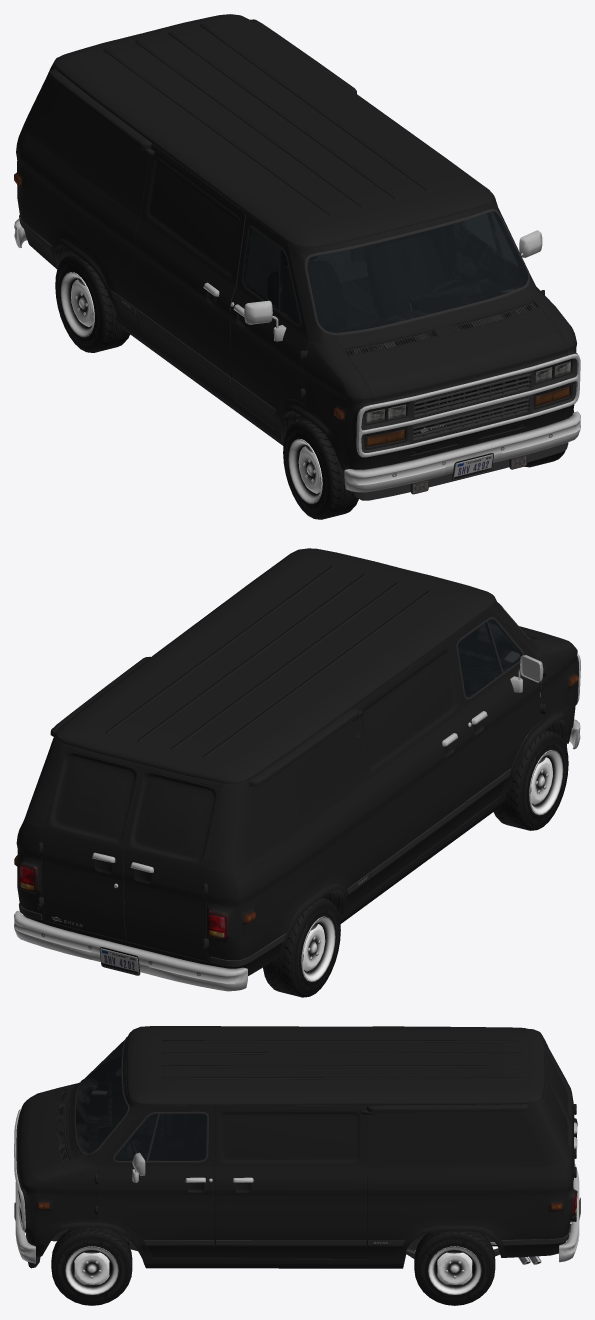
The model's file is traffic_van.glb.
The picture shows the model from 3 angles, top to bottom: view 1: azimuth 30°, elevation 25°; view 2: azimuth 150°, elevation 25°; view 3: azimuth 270°, elevation 25°; orthographic projection. The views are drawn at different scales.
Visible parts, largest first — view 1: Shvan92_Body_Shvan92_bodymat_0, Shvan92_Bottom_UCB_BOTTOM_0, Shvan92_Interior_UCB_Interiors_1_0, Shvan92_Windshield_UCB_Lights_and_Glass_Transperent_0, Shvan92_Hood_Shvan92_bodymat_0, Shvan92_Bumper_front_UCB_BOTTOM_0, Shvan92_WheelStock_FR_RB1c_Tire_1k_0, Shvan92_WheelStock_RL_RB1c_Tire_1k_0.001, Shvan92_Glass_Passanger_UCB_Lights_and_Glass_Transperent_0, Shvan92_Headlights_Glass_UCB_Lights_and_Glass_Transperent_0, Shvan92_Body_glass_UCB_Lights_and_Glass_Transperent_0, Shvan92_Blinkers_UCB_Lights_and_Glass_0 (+2 smaller); view 2: Shvan92_Body_Shvan92_bodymat_0, Shvan92_Bumper_rear_UCB_BOTTOM_0, Shvan92_Bottom_UCB_BOTTOM_0, Shvan92_WheelStock_RL_RB1c_Tire_1k_0.001, Shvan92_WheelStock_FR_RB1c_Tire_1k_0, Shvan92_Interior_UCB_Interiors_1_0, Shvan92_Glass_Passanger_UCB_Lights_and_Glass_Transperent_0, Shvan92_Body_glass_UCB_Lights_and_Glass_Transperent_0, Shvan92_Numberplate_rear_Numberplates_Misk_U_0; view 3: Shvan92_Body_Shvan92_bodymat_0, Shvan92_Interior_UCB_Interiors_1_0, Shvan92_Bottom_UCB_BOTTOM_0, Shvan92_WheelStock_FL_RB1c_Tire_1k_0, Shvan92_WheelStock_RL_RB1c_Tire_1k_0, Shvan92_Windshield_UCB_Lights_and_Glass_Transperent_0, Shvan92_Hood_Shvan92_bodymat_0, Shvan92_Glass_Driver_UCB_Lights_and_Glass_Transperent_0, Shvan92_Body_glass_UCB_Lights_and_Glass_Transperent_0, Shvan92_Bumper_rear_UCB_BOTTOM_0, Shvan92_Bumper_front_UCB_BOTTOM_0.
Boxes of the visible parts, x1=… form: Shvan92_Body_Shvan92_bodymat_0: x1=16, y1=14, x2=576, y2=472; Shvan92_Bottom_UCB_BOTTOM_0: x1=14, y1=172, x2=580, y2=500; Shvan92_Interior_UCB_Interiors_1_0: x1=229, y1=212, x2=527, y2=404; Shvan92_Windshield_UCB_Lights_and_Glass_Transperent_0: x1=307, y1=211, x2=528, y2=332; Shvan92_Hood_Shvan92_bodymat_0: x1=348, y1=308, x2=567, y2=404; Shvan92_Bumper_front_UCB_BOTTOM_0: x1=344, y1=411, x2=580, y2=492; Shvan92_WheelStock_FR_RB1c_Tire_1k_0: x1=283, y1=419, x2=358, y2=519; Shvan92_WheelStock_RL_RB1c_Tire_1k_0.001: x1=55, y1=253, x2=129, y2=352; Shvan92_Glass_Passanger_UCB_Lights_and_Glass_Transperent_0: x1=243, y1=228, x2=279, y2=310; Shvan92_Headlights_Glass_UCB_Lights_and_Glass_Transperent_0: x1=366, y1=361, x2=570, y2=446; Shvan92_Body_glass_UCB_Lights_and_Glass_Transperent_0: x1=280, y1=212, x2=517, y2=324; Shvan92_Blinkers_UCB_Lights_and_Glass_0: x1=366, y1=387, x2=569, y2=446; Shvan92_Body_Shvan92_bodymat_0: x1=16, y1=548, x2=578, y2=975; Shvan92_Bumper_rear_UCB_BOTTOM_0: x1=14, y1=911, x2=247, y2=991; Shvan92_Bottom_UCB_BOTTOM_0: x1=14, y1=603, x2=580, y2=966; Shvan92_WheelStock_RL_RB1c_Tire_1k_0.001: x1=263, y1=898, x2=340, y2=997; Shvan92_WheelStock_FR_RB1c_Tire_1k_0: x1=493, y1=730, x2=568, y2=830; Shvan92_Interior_UCB_Interiors_1_0: x1=124, y1=620, x2=531, y2=920; Shvan92_Glass_Passanger_UCB_Lights_and_Glass_Transperent_0: x1=458, y1=622, x2=501, y2=697; Shvan92_Body_glass_UCB_Lights_and_Glass_Transperent_0: x1=488, y1=619, x2=522, y2=671; Shvan92_Numberplate_rear_Numberplates_Misk_U_0: x1=100, y1=948, x2=139, y2=975; Shvan92_Body_Shvan92_bodymat_0: x1=20, y1=1026, x2=576, y2=1268; Shvan92_Interior_UCB_Interiors_1_0: x1=76, y1=1043, x2=206, y2=1160; Shvan92_Bottom_UCB_BOTTOM_0: x1=14, y1=1037, x2=577, y2=1268; Shvan92_WheelStock_FL_RB1c_Tire_1k_0: x1=51, y1=1227, x2=132, y2=1305; Shvan92_WheelStock_RL_RB1c_Tire_1k_0: x1=414, y1=1231, x2=495, y2=1305; Shvan92_Windshield_UCB_Lights_and_Glass_Transperent_0: x1=76, y1=1040, x2=127, y2=1153; Shvan92_Hood_Shvan92_bodymat_0: x1=16, y1=1089, x2=61, y2=1186; Shvan92_Glass_Driver_UCB_Lights_and_Glass_Transperent_0: x1=148, y1=1113, x2=206, y2=1160; Shvan92_Body_glass_UCB_Lights_and_Glass_Transperent_0: x1=115, y1=1069, x2=157, y2=1160; Shvan92_Bumper_rear_UCB_BOTTOM_0: x1=559, y1=1163, x2=580, y2=1262; Shvan92_Bumper_front_UCB_BOTTOM_0: x1=14, y1=1182, x2=35, y2=1263.
Size of the model in its own units: 14.09 by 11.75 by 29.39.
Materials: 9 (7 with a texture image).
